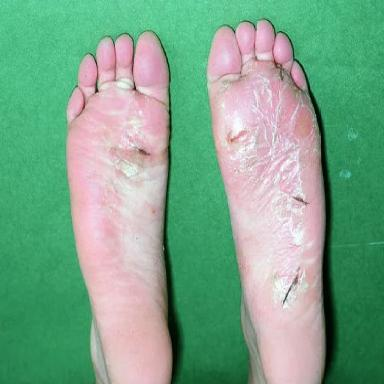eczema: (211, 68, 319, 314), (97, 91, 151, 218)
